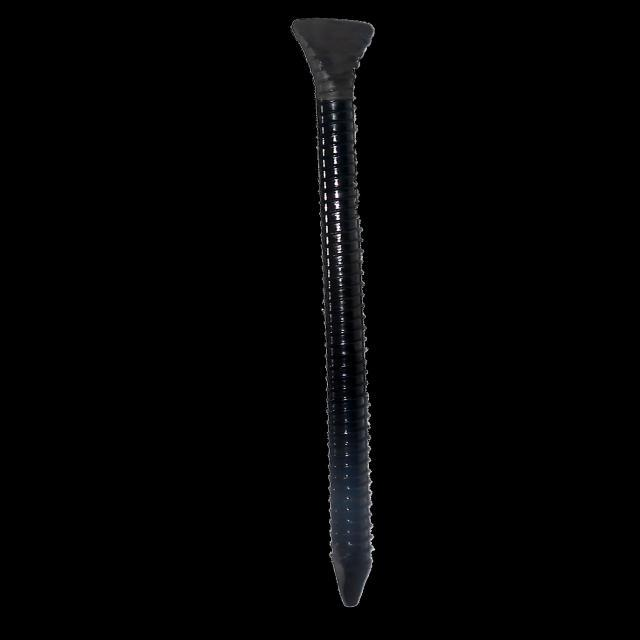Linggis: (258, 7, 407, 620)
